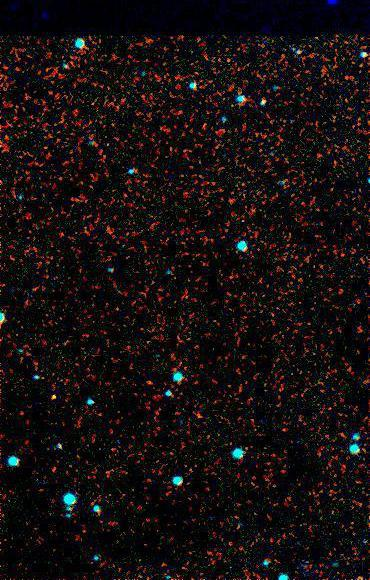star: (38, 381, 68, 411)
